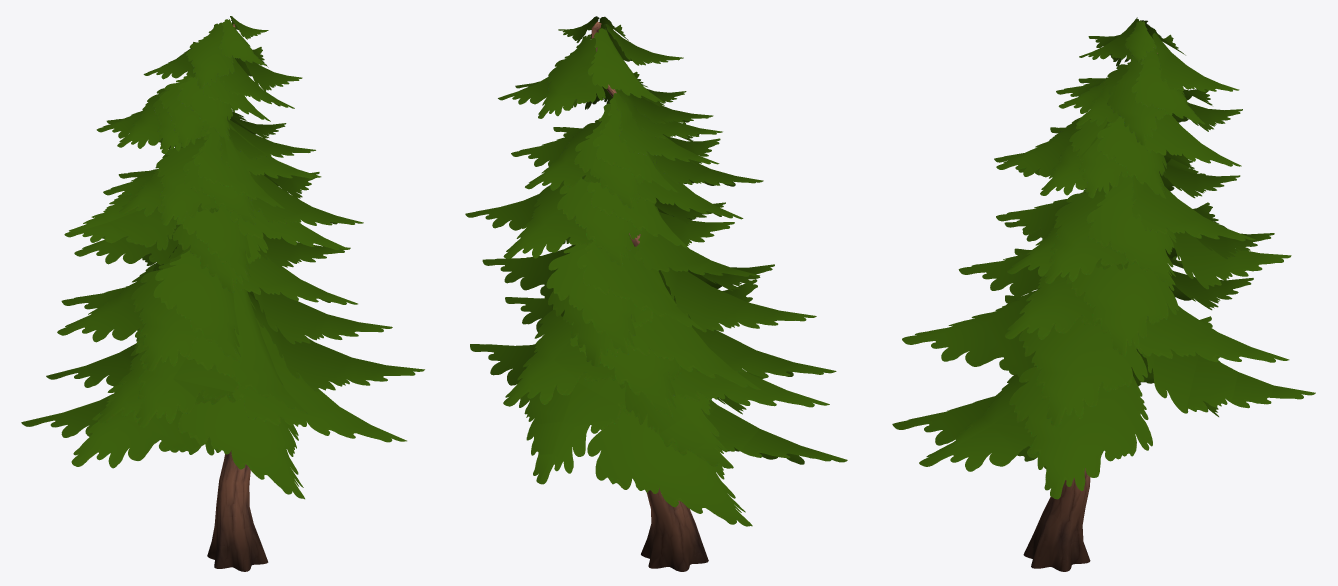
The model's file is Pine_5.glb.
The picture shows the model from 3 angles, left to right: view 1: azimuth 30°, elevation 25°; view 2: azimuth 150°, elevation 25°; view 3: azimuth 270°, elevation 25°; orthographic projection. The views are drawn at different scales.
Visible parts, largest first — view 1: Pine_5; view 2: Pine_5; view 3: Pine_5.
Boxes of the visible parts, left/top/right/bottom form: Pine_5: left=21, top=16, right=424, bottom=571; Pine_5: left=465, top=16, right=847, bottom=571; Pine_5: left=892, top=17, right=1315, bottom=571.
Bounding box in the file's own units: 6.42 × 8.72 × 6.22.
Materials: 2 (2 with a texture image).
